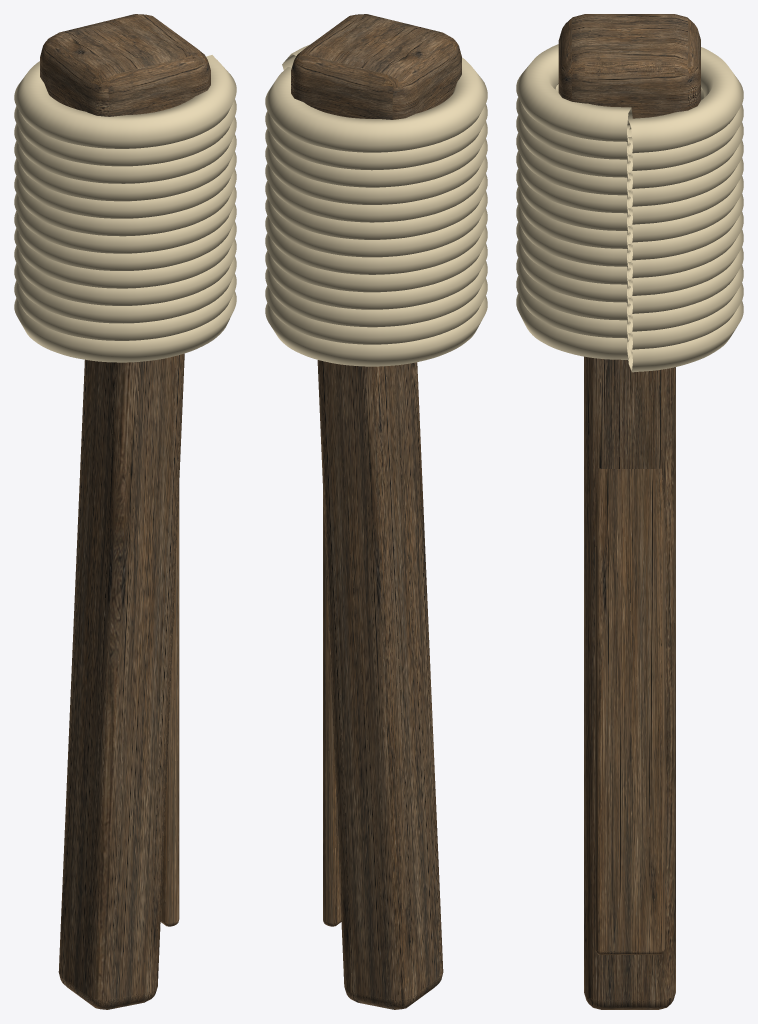
Rendered from hand_torch.glb.
The picture shows the model from 3 angles, left to right: view 1: azimuth 30°, elevation 25°; view 2: azimuth 150°, elevation 25°; view 3: azimuth 270°, elevation 25°; orthographic projection. The views are drawn at different scales.
Visible parts, largest first — view 1: hand_torch_mesh; view 2: hand_torch_mesh; view 3: hand_torch_mesh.
Boxes of the visible parts, x1,y1,x2,y2 form: hand_torch_mesh: (14,14,236,1009); hand_torch_mesh: (265,14,487,1009); hand_torch_mesh: (516,14,743,1009).
Size of the model in its own units: 0.1039 by 0.4902 by 0.1039.
3 materials, 2 textured.
